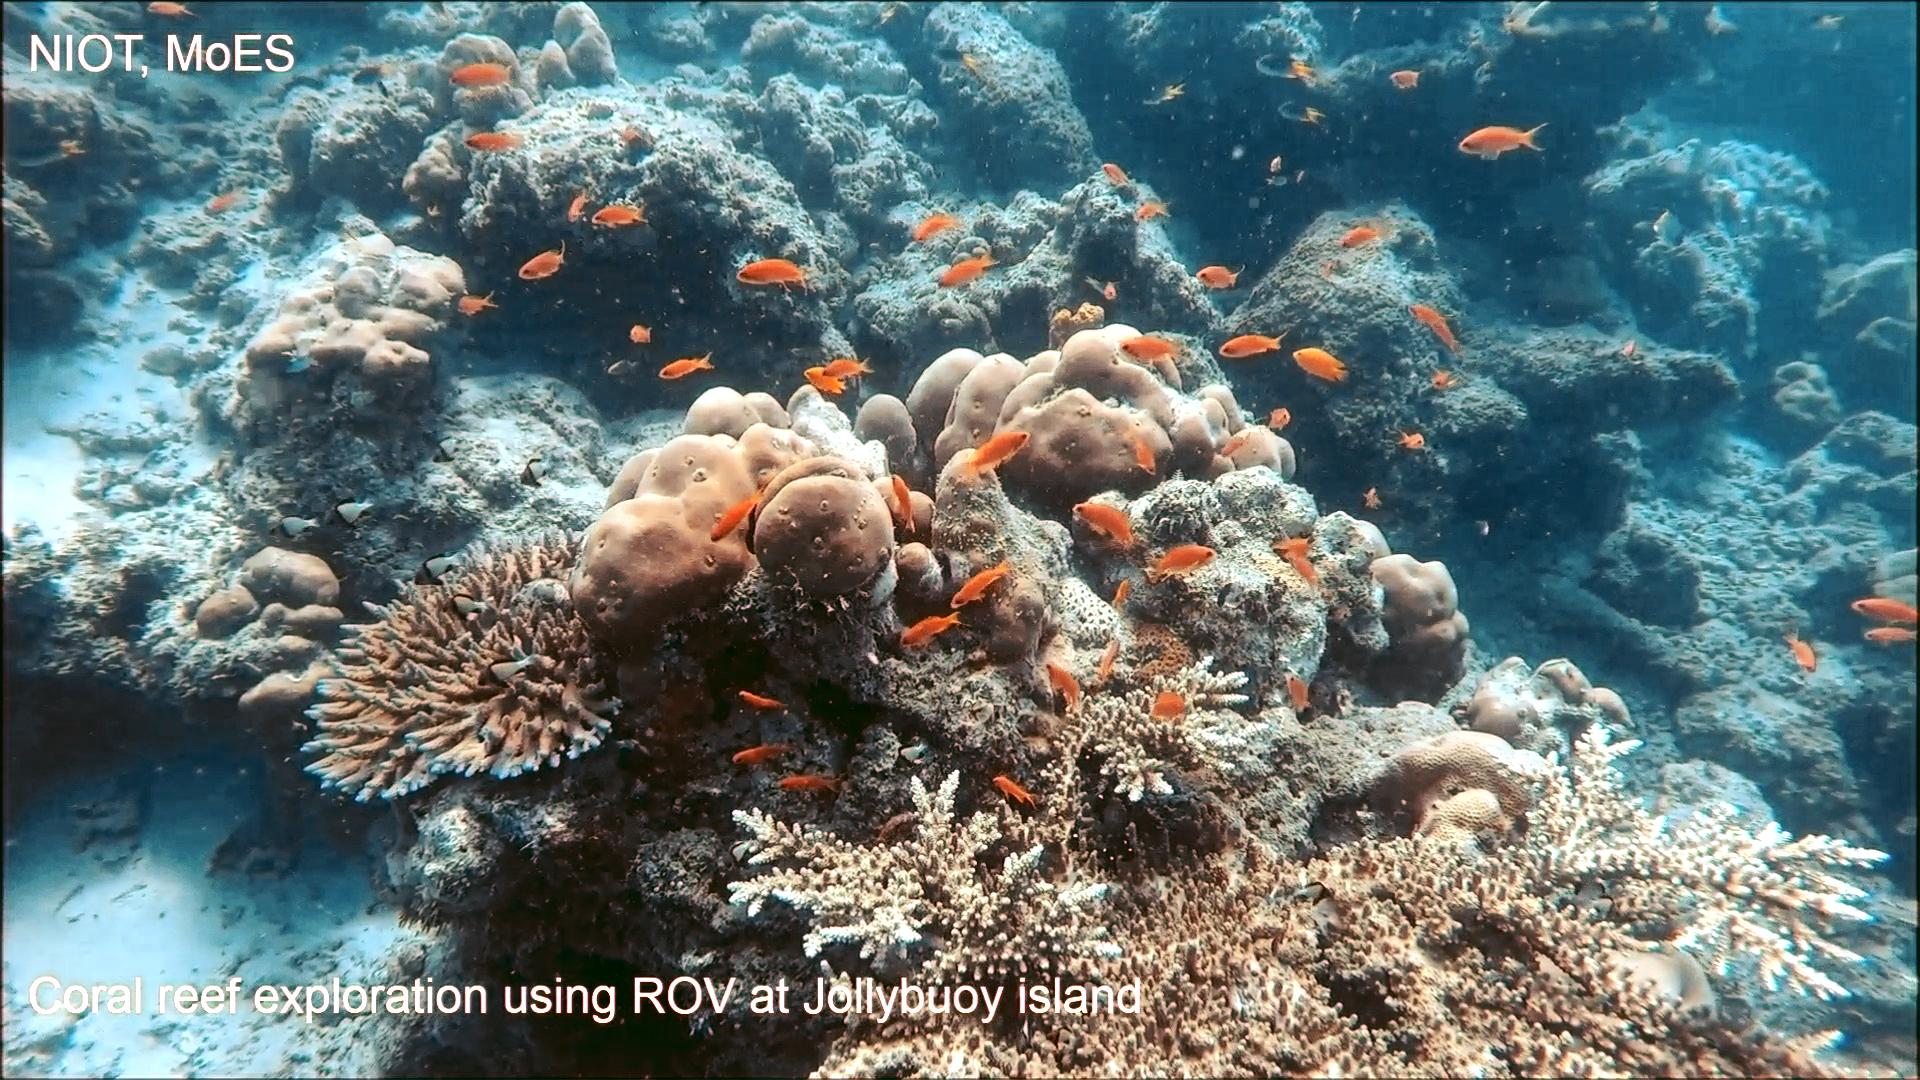Porites-Porites pukoensis: (564, 380, 902, 654), (887, 318, 1304, 505)
